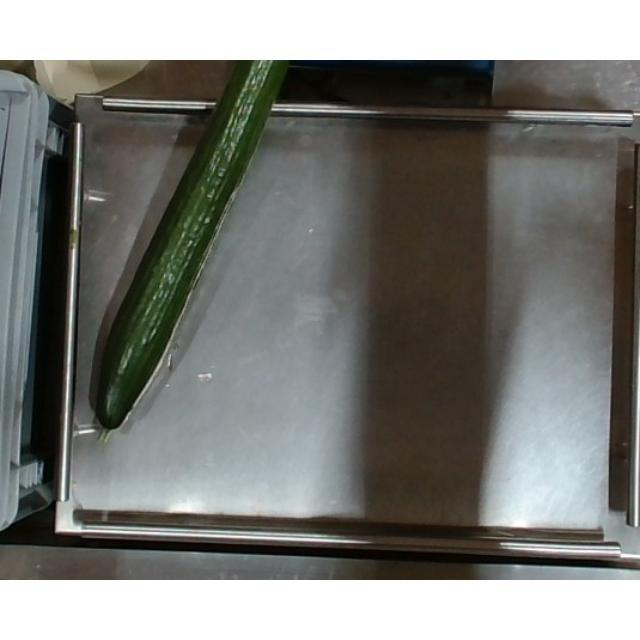cucumber: (90, 61, 292, 443)
